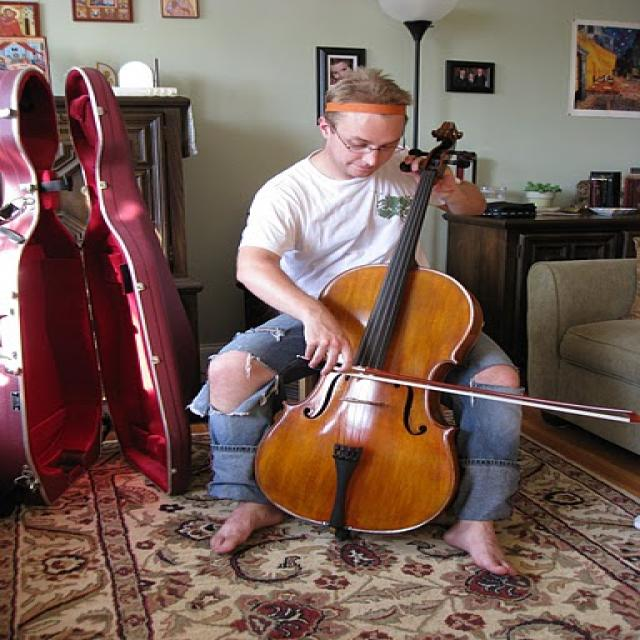cello: (250, 120, 484, 537)
